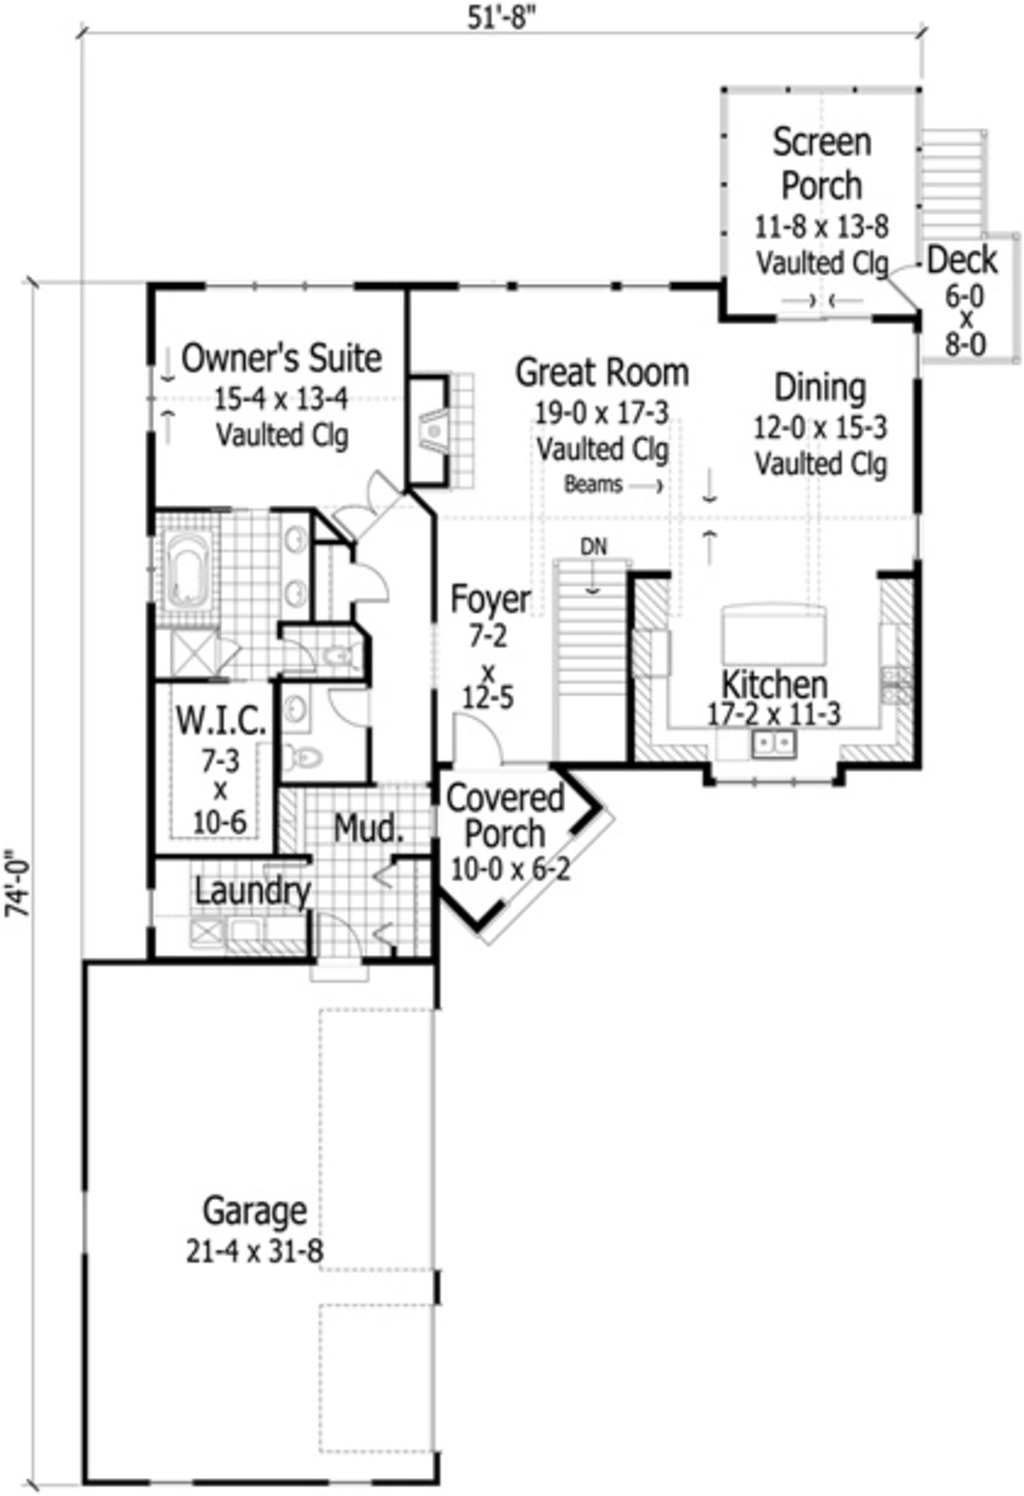door: (330, 473, 413, 539), (446, 706, 503, 766), (339, 551, 388, 616), (320, 679, 371, 735)
kitchen_bar: (715, 589, 841, 666)
large_sink: (288, 735, 325, 779)
small_sink: (270, 509, 320, 635)
stairs: (549, 538, 634, 762), (919, 128, 986, 246)
tub: (150, 512, 223, 633)
windows: (442, 274, 677, 297), (188, 273, 352, 298), (74, 1174, 95, 1268), (139, 357, 158, 432)
